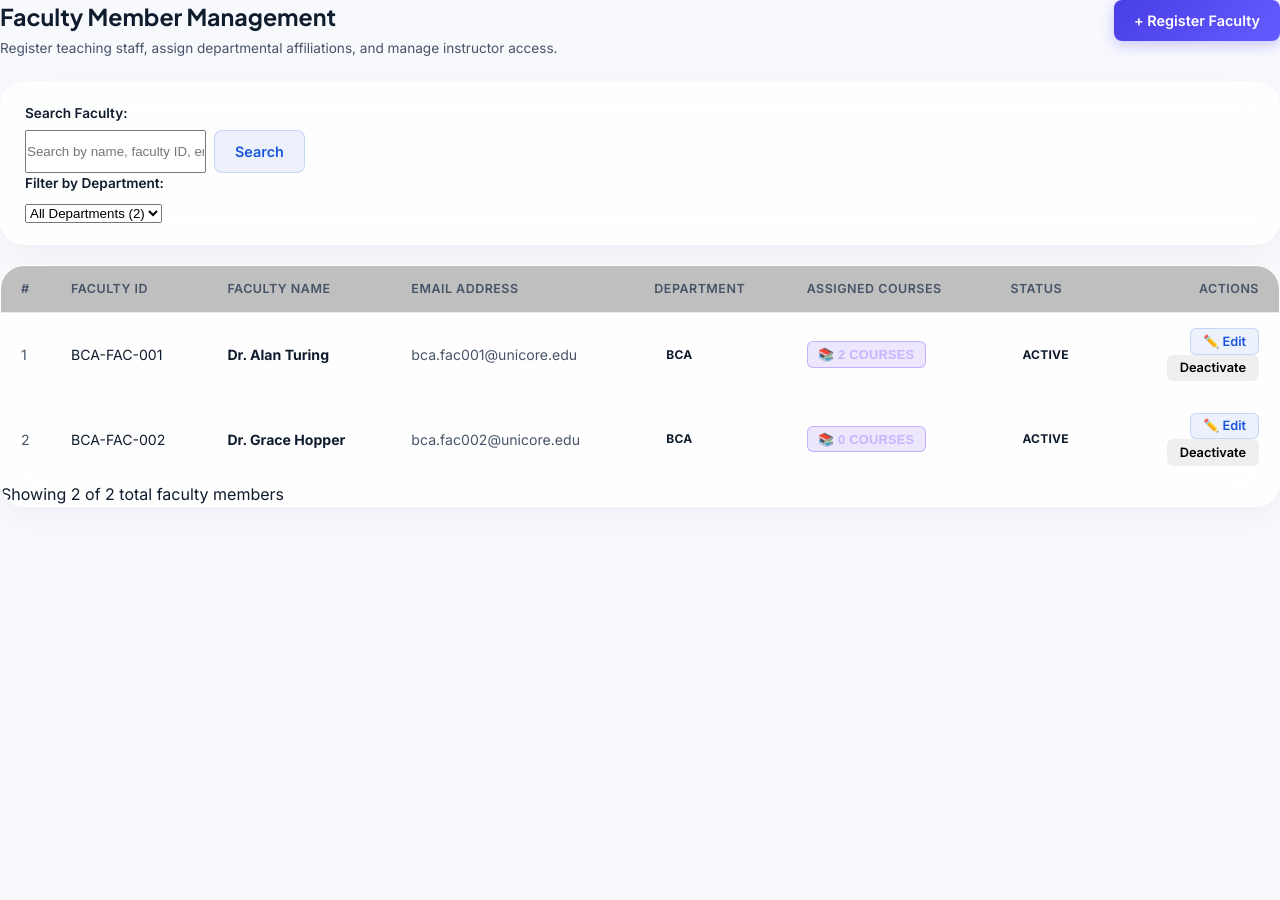
Test: Admin Portal — Faculty Assigned Courses View Tests › shows clear "No courses assigned" empty state when faculty has zero courses
Expected: the text "Dr. Grace Hopper" is shown, [227,431,345,448]
Click the button with aria-label "View courses assigned to Dr. Grace Hopper": click(866, 439) [807,426,926,452]
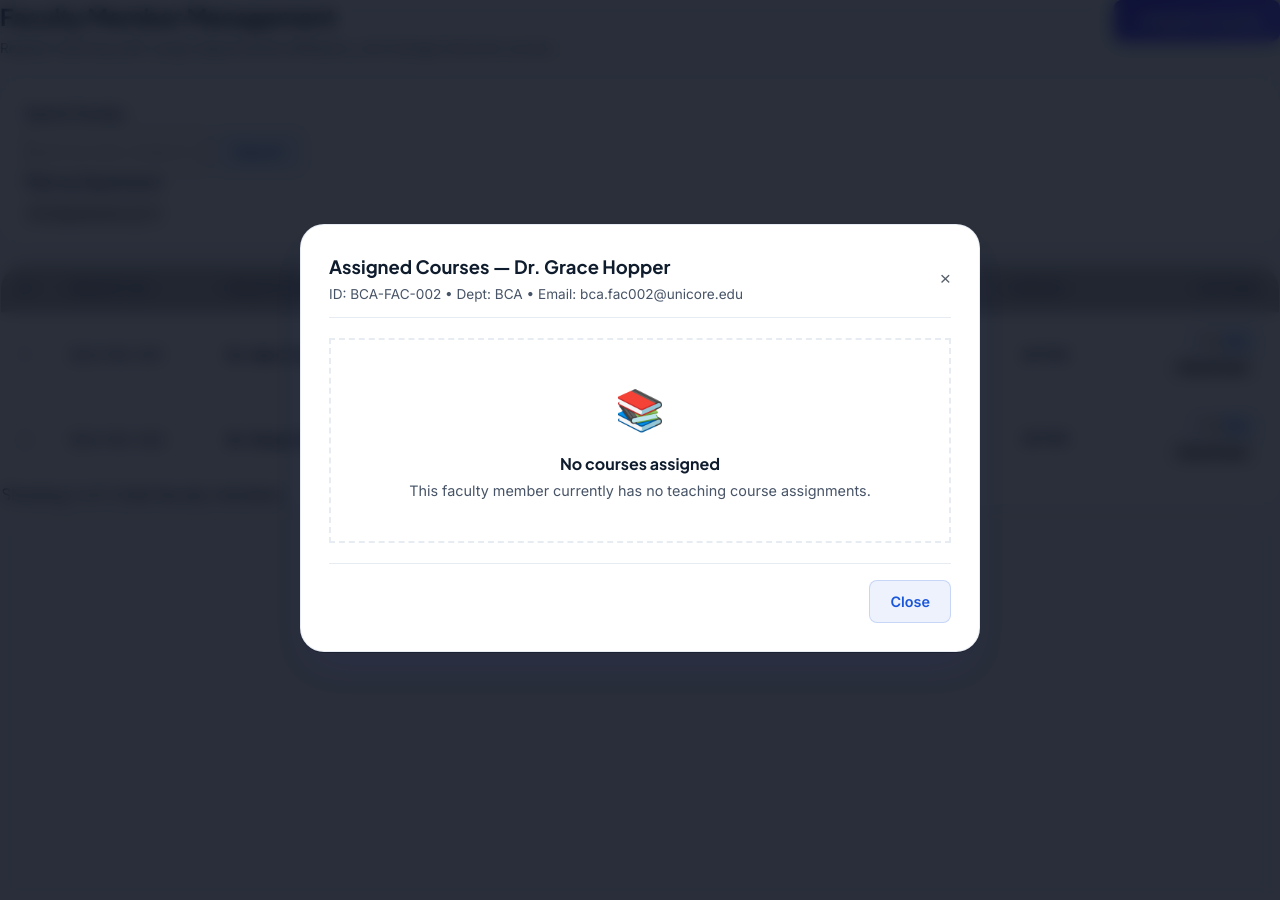
Expected: the heading "Assigned Courses — Dr. Grace Hopper" is shown, [329,255,670,278]
Expected: the heading "No courses assigned" is shown, [560,453,720,474]
Expected: the text "currently has no teaching course assignments" is shown, [409,482,871,499]
